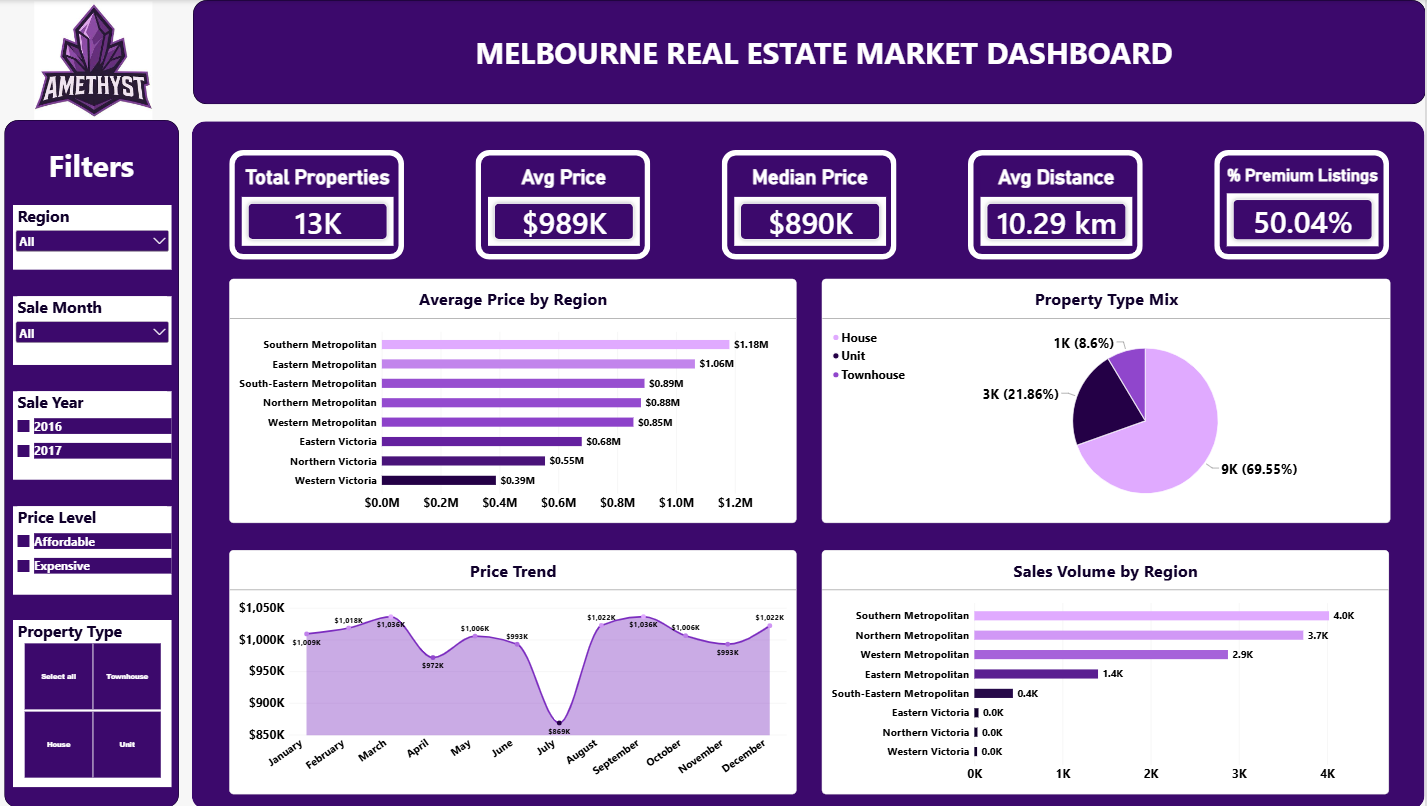

The page's visual inventory and layout, read from the dashboard file:
{"tool":"powerbi","page":{"name":"Estate Market Dashboard","canvas":[2560,1440],"ordinal":0},"visuals":[{"type":"shape","box":[364.3,0,2195.7,185.8],"z":0},{"type":"textbox","box":[861.4,55.5,1254.7,74.8],"z":1000},{"type":"shape","box":[363.8,215,2195.7,1225.7],"z":2000},{"type":"shape","box":[29,214.7,311.3,1225.7],"z":3000},{"type":"image","box":[82.5,0,210,215],"z":4000},{"type":"shape","box":[429.5,267.8,311.3,195.4],"z":5000,"group":"g1"},{"type":"shape","box":[868,267.8,311.3,195.4],"z":5000},{"type":"shape","box":[1306.6,267.8,311.3,195.4],"z":6000},{"type":"cardVisual","title":"Total Properties","fields":{"Data":["melb_data_cleaned.Total Properties"]},"box":[451.2,294.3,270.2,144.8],"z":6000,"group":"g1"},{"type":"shape","box":[1745.1,267.8,311.3,195.4],"z":7000},{"type":"shape","box":[2183.7,267.8,311.3,195.4],"z":8000},{"type":"cardVisual","title":"Avg Price","fields":{"Data":["melb_data_cleaned.Average Price"]},"box":[889.7,294.4,270.2,144.8],"z":9000},{"type":"cardVisual","title":"Median Price","fields":{"Data":["melb_data_cleaned.Median Price"]},"box":[1328.3,294.4,270.2,144.8],"z":10000},{"type":"cardVisual","title":"Avg Distance","fields":{"Data":["melb_data_cleaned.Average Distance"]},"box":[1766.8,294.4,270.2,144.8],"z":11000},{"type":"cardVisual","title":"% Premium Listings","fields":{"Data":["melb_data_cleaned.% Expensive Properties"]},"box":[2205.4,294.4,270.2,144.8],"z":12000},{"type":"group","id":"g1","title":"Group 1","box":[429.5,267.8,311.3,195.4],"z":13000},{"type":"clusteredBarChart","title":"Average Price by Region","fields":{"Y":["melb_data_cleaned.Average Price"],"Category":["melb_data_cleaned.Regionname"]},"box":[430,497.5,1010,435],"z":14000},{"type":"pieChart","title":"Property Type Mix","fields":{"Category":["melb_data_cleaned.Type"],"Y":["melb_data_cleaned.Total Properties"]},"box":[1485,497.5,1012.5,435],"z":15000},{"type":"slicer","fields":{"Values":["melb_data_cleaned.Regionname"]},"box":[45,365,282.5,115],"z":16000},{"type":"textbox","box":[80,257.5,207.5,75],"z":17000},{"type":"slicer","fields":{"Values":["melb_data_cleaned.Type"]},"box":[45,1105,282.5,297.5],"z":18000},{"type":"slicer","fields":{"Values":["melb_data_cleaned.Sale_Year"]},"box":[45,696.2,282.5,157.5],"z":19000},{"type":"slicer","fields":{"Values":["melb_data_cleaned.Price_Level"]},"box":[45,900.6,282.5,157.5],"z":20000},{"type":"slicer","fields":{"Values":["melb_data_cleaned.Sale_Month"]},"box":[45,526.9,282.5,122.5],"z":21000},{"type":"areaChart","title":"Price Trend","fields":{"Category":["melb_data_cleaned.Sale Date.Variation.Date Hierarchy.Month"],"Y":["melb_data_cleaned.Average Price"]},"box":[430,980,1010,435],"z":22000},{"type":"barChart","title":"Sales Volume by Region","fields":{"Category":["melb_data_cleaned.Regionname"],"Y":["melb_data_cleaned.Total Properties"]},"box":[1485,980,1010,435],"z":23000}]}

Visuals, with their boxes in screenshot pixels (x1, y1, x2, y2), scaled from the page's 2560x1440 canvas onto the 1427x806 screenshot:
shape: box=[203, 0, 1426, 104]
textbox: box=[480, 31, 1180, 73]
shape: box=[203, 120, 1426, 805]
shape: box=[16, 120, 190, 805]
image: box=[46, 0, 163, 120]
shape: box=[239, 150, 413, 259]
shape: box=[484, 150, 657, 259]
shape: box=[728, 150, 902, 259]
"Total Properties" cardVisual: box=[252, 165, 402, 246]
shape: box=[973, 150, 1146, 259]
shape: box=[1217, 150, 1391, 259]
"Avg Price" cardVisual: box=[496, 165, 647, 246]
"Median Price" cardVisual: box=[740, 165, 891, 246]
"Avg Distance" cardVisual: box=[985, 165, 1135, 246]
"% Premium Listings" cardVisual: box=[1229, 165, 1380, 246]
"Group 1" group: box=[239, 150, 413, 259]
"Average Price by Region" clusteredBarChart: box=[240, 278, 803, 522]
"Property Type Mix" pieChart: box=[828, 278, 1392, 522]
slicer - melb_data_cleaned.Regionname: box=[25, 204, 183, 269]
textbox: box=[45, 144, 160, 186]
slicer - melb_data_cleaned.Type: box=[25, 618, 183, 785]
slicer - melb_data_cleaned.Sale_Year: box=[25, 390, 183, 478]
slicer - melb_data_cleaned.Price_Level: box=[25, 504, 183, 592]
slicer - melb_data_cleaned.Sale_Month: box=[25, 295, 183, 363]
"Price Trend" areaChart: box=[240, 549, 803, 792]
"Sales Volume by Region" barChart: box=[828, 549, 1391, 792]
